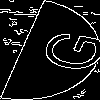G: (25, 25, 100, 75)
